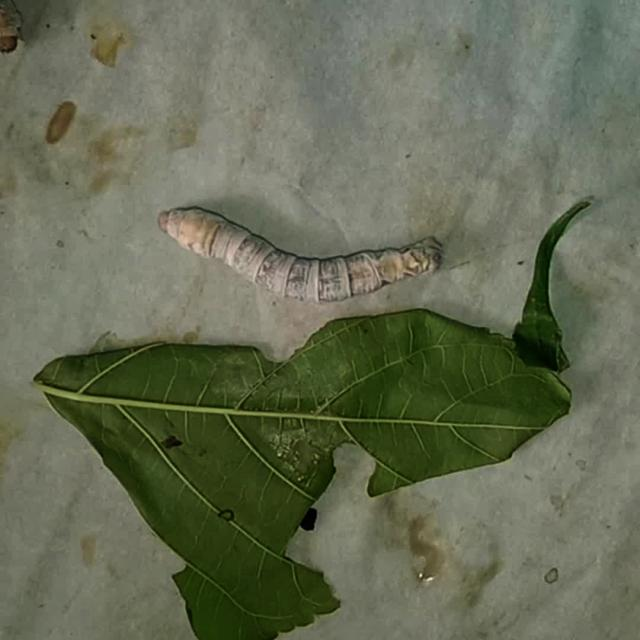Grasserie: (152, 188, 455, 310)
